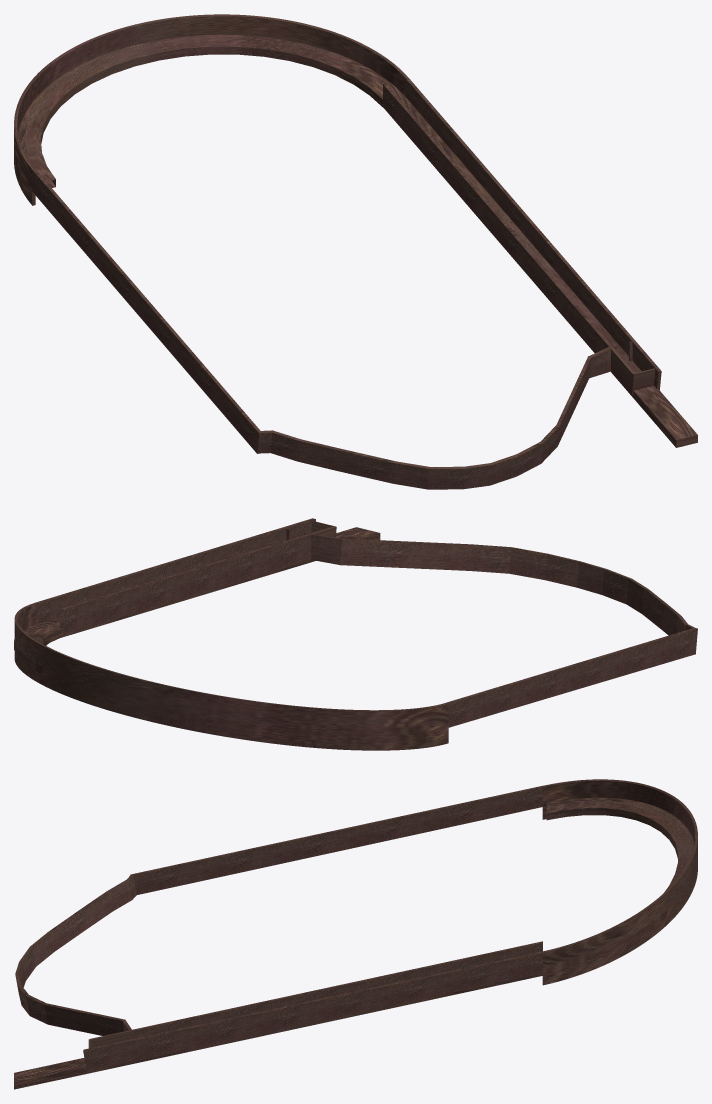
The model's file is bingoBordes.obj.
3 renders of one model, top to bottom at view 1: azimuth 30°, elevation 25°; view 2: azimuth 150°, elevation 25°; view 3: azimuth 270°, elevation 25°, orthographic. The views are drawn at different scales.
Parts seen in each view (by area): view 1: Object001, Box029, Box027; view 2: Object001, Box027, Box029; view 3: Object001, Box027, Box029.
Boxes of the visible parts, box(x1,y1,x2,y2) form: Object001: box(32, 78, 661, 489); Box029: box(18, 34, 697, 447); Box027: box(14, 14, 408, 205); Object001: box(35, 518, 697, 727); Box027: box(14, 603, 448, 750); Box029: box(14, 527, 380, 681); Object001: box(15, 785, 542, 1070); Box027: box(542, 779, 697, 985); Box029: box(14, 797, 694, 1089).
Size of the model in its own units: 36.73 by 17.55 by 63.58.
